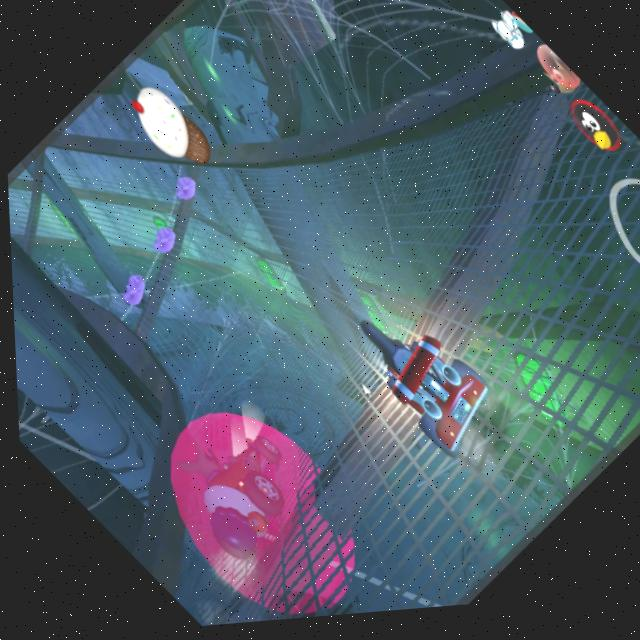obstacle: (137, 214, 187, 265), (110, 271, 156, 320), (162, 170, 204, 216)
player_kart: (334, 292, 512, 484)
track: (128, 169, 369, 408), (5, 145, 142, 285)
